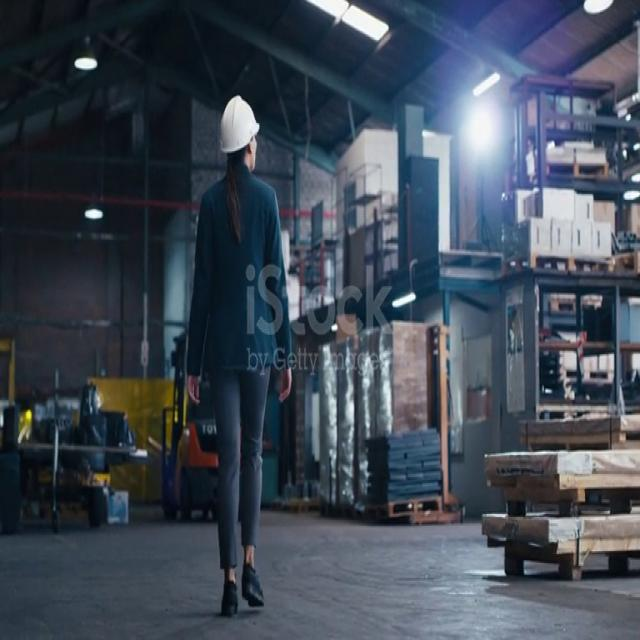capacete: (215, 88, 267, 158)
